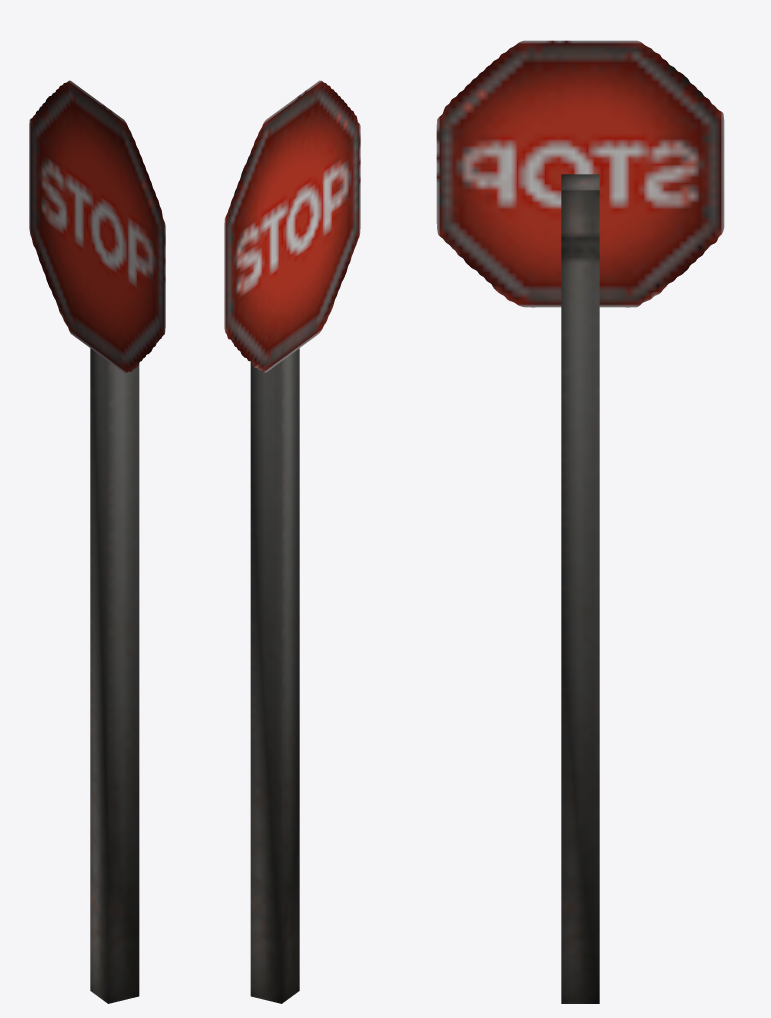
Rendered from roadsign1.fbx.
3 renders of one model, left to right at view 1: azimuth 30°, elevation 25°; view 2: azimuth 150°, elevation 25°; view 3: azimuth 270°, elevation 25°, orthographic. The views are drawn at different scales.
Parts seen in each view (by area): view 1: roadsign1; view 2: roadsign1; view 3: roadsign1.
Boxes of the visible parts, bbox=[...] form: roadsign1: bbox=[29, 80, 165, 1003]; roadsign1: bbox=[224, 80, 360, 1003]; roadsign1: bbox=[436, 40, 724, 1003].
Bounding box in the file's own units: 11.4 × 100 × 305.
Materials: 1 (1 with a texture image).
